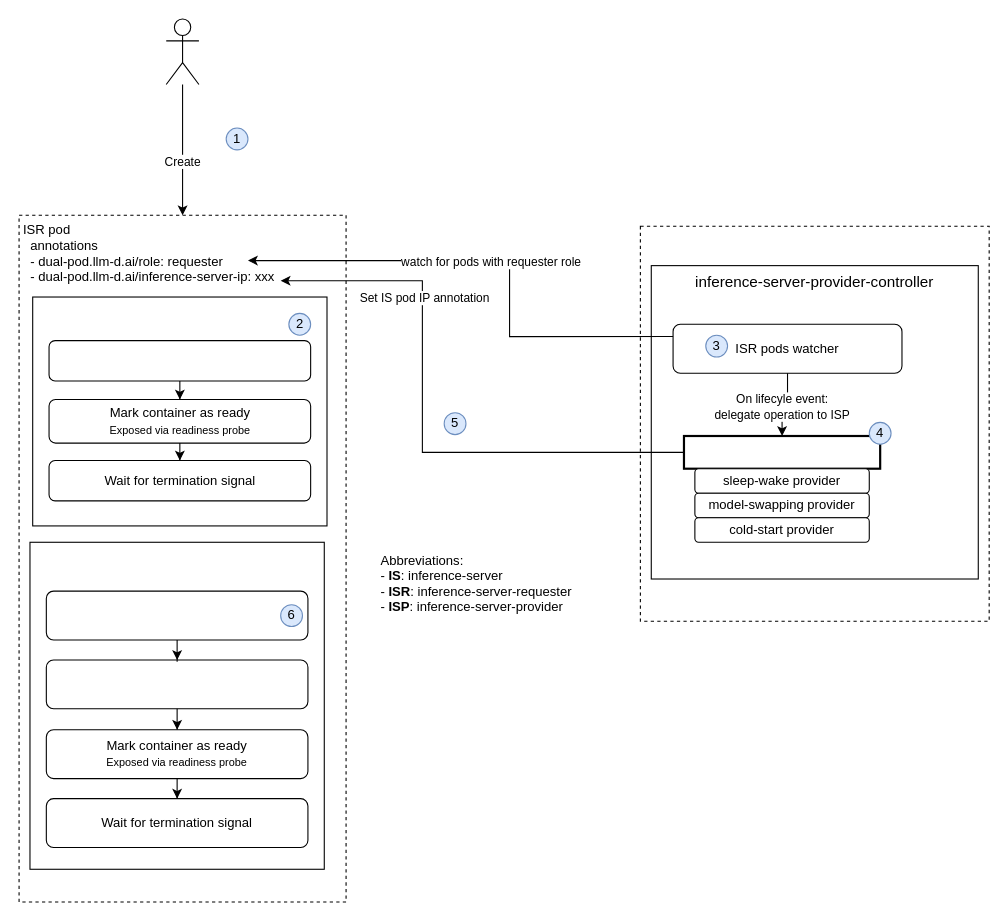
The diagram is 1008 pixels wide and 921 high, and some of its shapes have lost their labels. Each missing label, with the box of its shape:
Actor: (165, 18, 199, 84)
inference-server-gpu-allocator: (32, 296, 327, 526)
inference-server-provider API: (682, 434, 881, 469)
inference-server-requester: (29, 541, 324, 869)
ISP pod: (639, 225, 989, 621)
Start HTTP server exposing allocated GPUs: (48, 340, 311, 381)
Start HTTP server redirecting to inference-server pod: (45, 659, 308, 709)
Wait for IS Pod IP set watch file in mounted downwardAPI volume: (45, 590, 308, 640)
